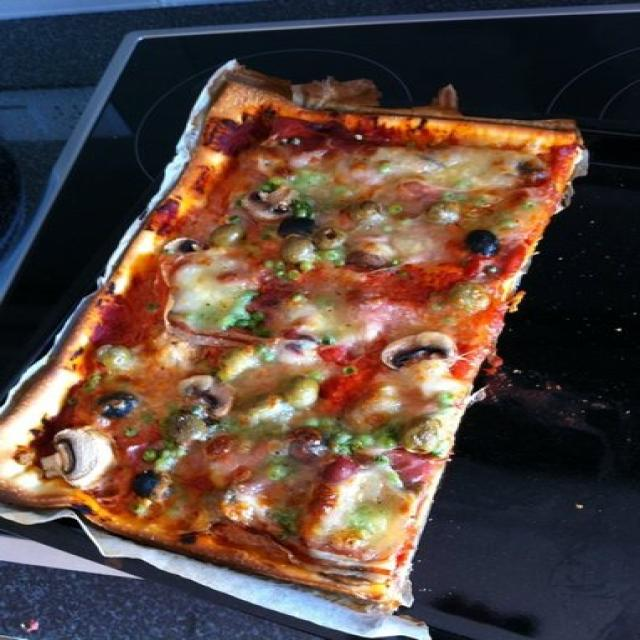Mushrooms: (41, 427, 94, 483), (378, 336, 451, 372), (182, 378, 234, 416), (240, 193, 300, 218), (348, 253, 398, 268), (169, 239, 198, 252)
Pizza: (0, 65, 588, 615)
